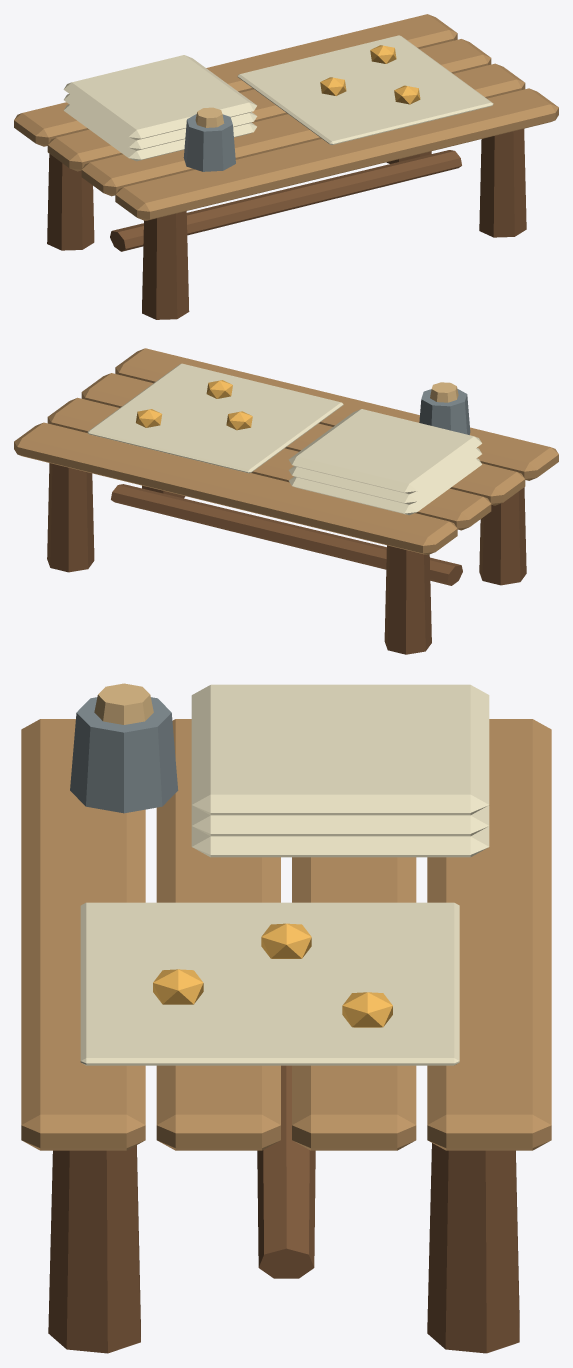
Rendered from CC_AdminDesk.fbx.
The picture shows the model from 3 angles, top to bottom: view 1: azimuth 30°, elevation 25°; view 2: azimuth 150°, elevation 25°; view 3: azimuth 270°, elevation 25°; orthographic projection. The views are drawn at different scales.
Parts seen in each view (by area): view 1: Plank.024, Map, Ledger.002, Brace.006, Plank.025, Plank.027, Leg.030, Leg.028, Plank.026, Leg.029, Medicine jar.007, Ledger.001 (+5 smaller); view 2: Plank.027, Map, Ledger.002, Brace.006, Plank.024, Leg.029, Leg.031, Plank.026, Plank.025, Leg.028, Ledger, Ledger.001 (+5 smaller); view 3: Map, Plank.027, Ledger.002, Plank.024, Plank.025, Leg.031, Leg.030, Plank.026, Medicine jar.007, Brace.006, Ledger, Ledger.001 (+4 smaller).
Part boxes in pixels (x1,y1,x2,y2): Plank.024: (115,88,558,220); Map: (237,35,493,144); Ledger.002: (63,55,256,140); Brace.006: (110,150,461,251); Plank.025: (81,63,525,196); Plank.027: (14,14,457,146); Leg.030: (479,129,526,237); Leg.028: (142,211,189,319); Plank.026: (47,39,491,171); Leg.029: (47,154,94,250); Medicine jar.007: (183,114,235,171); Ledger.001: (64,94,257,150); Plank.027: (14,422,457,555); Map: (87,363,343,473); Ledger.002: (288,409,481,494); Brace.006: (111,484,462,585); Plank.024: (115,348,558,480); Leg.029: (384,545,431,654); Leg.031: (47,463,94,572); Plank.026: (47,397,491,530); Plank.025: (81,373,525,505); Leg.028: (479,487,526,585); Ledger: (288,458,481,515); Ledger.001: (288,448,481,504); Map: (80,902,459,1065); Plank.027: (427,719,551,1150); Ledger.002: (191,684,489,815); Plank.024: (21,719,145,1150); Plank.025: (156,719,280,1150); Leg.031: (427,1143,519,1353); Leg.030: (48,1145,140,1353); Plank.026: (292,857,416,1150); Medicine jar.007: (70,697,178,813); Brace.006: (257,1065,315,1278); Ledger: (191,826,489,857); Ledger.001: (191,805,489,836).
Bounding box in the file's own units: 2.7 × 1.1 × 1.47.
